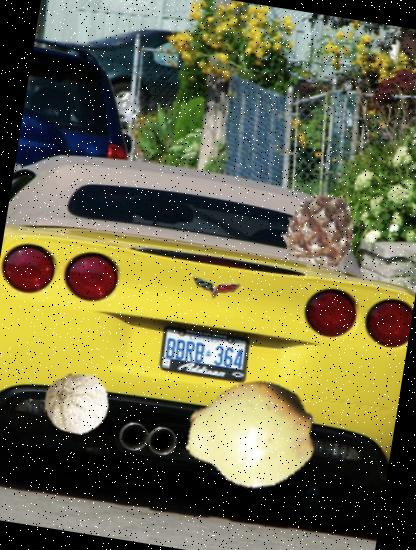Cantaloupe: (39, 366, 115, 442)
Pineapple: (272, 182, 366, 276)
Quince: (175, 360, 325, 510)
